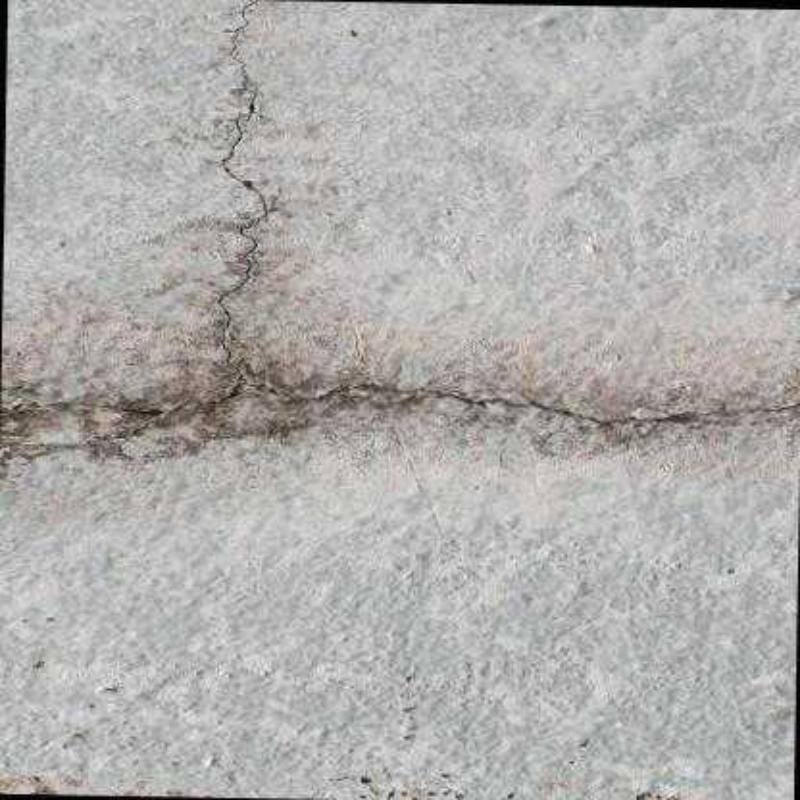pothole: (0, 0, 800, 423)
